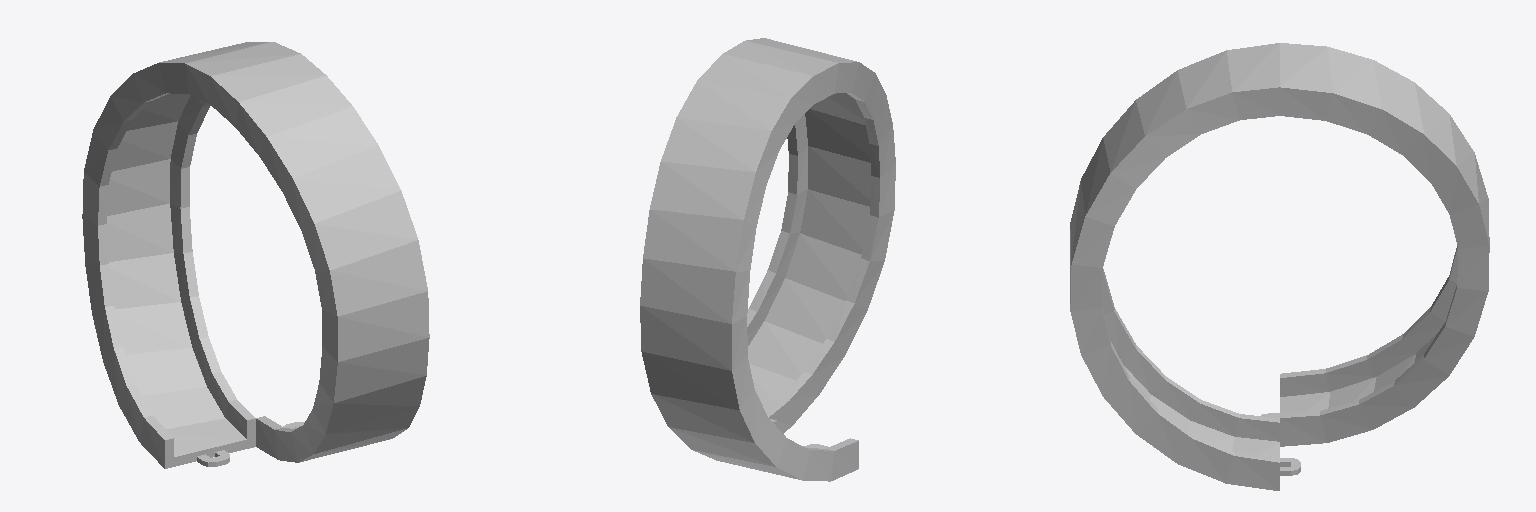
Rendered from track-narrow-looping.obj.
3 renders of one model, left to right at view 1: azimuth 30°, elevation 25°; view 2: azimuth 150°, elevation 25°; view 3: azimuth 270°, elevation 25°, orthographic.
Visible parts, largest first — view 1: track-narrow-looping; view 2: track-narrow-looping; view 3: track-narrow-looping.
Boxes of the visible parts, x1,y1,x2,y2 form: track-narrow-looping: [82, 42, 429, 468]; track-narrow-looping: [640, 38, 895, 481]; track-narrow-looping: [1070, 43, 1489, 490].
Bounding box in the file's own units: 2 × 4 × 3.98.